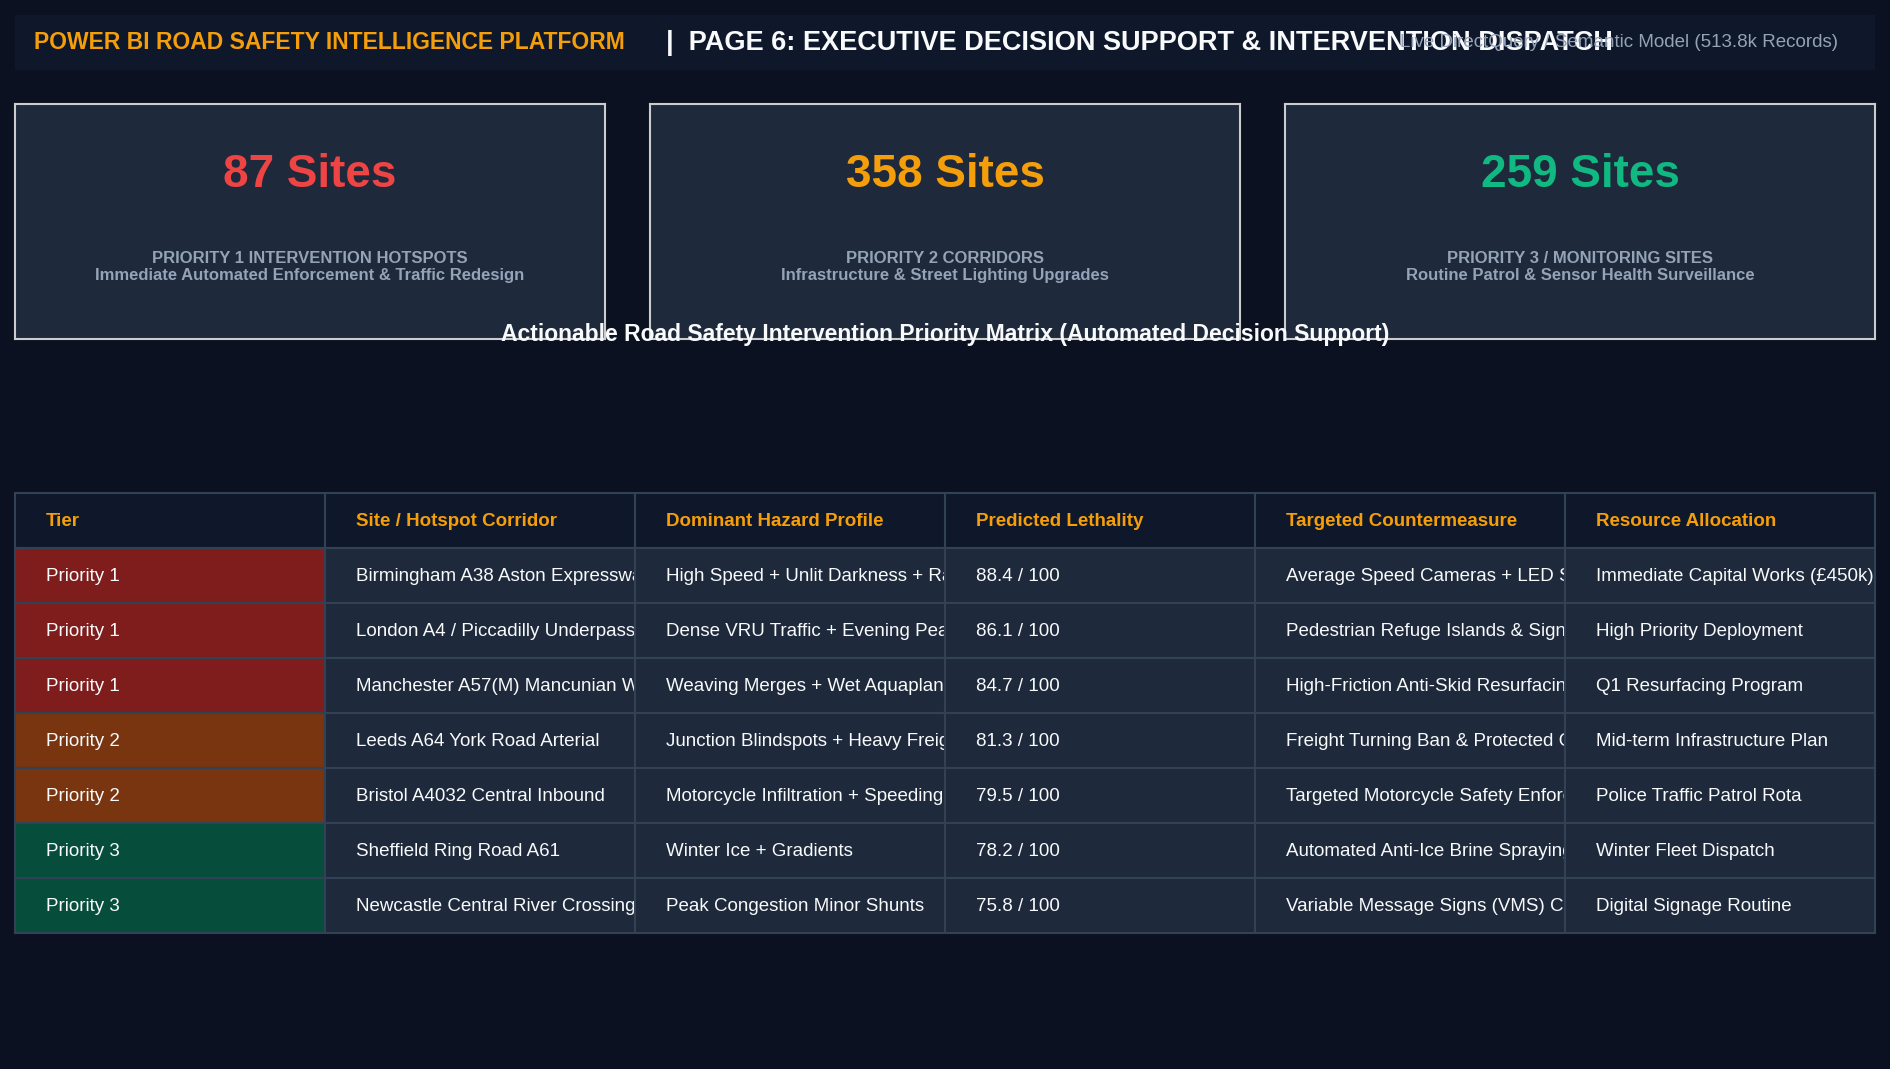

This screenshot's page, from the dashboard's own definition file:
{"tool":"powerbi","page":{"name":"6. Road Safety Decision Support","canvas":[1280,720],"ordinal":5},"visuals":[{"type":"card","title":"Priority 1 (Urgent Audit)","box":[20,20,290,100],"z":1000},{"type":"card","title":"Priority 2 (Structural Hazard)","box":[330,20,290,100],"z":1000},{"type":"card","title":"Priority 3 (Targeted Action)","box":[640,20,290,100],"z":1000},{"type":"card","title":"Total Actionable Hotspots","box":[950,20,310,100],"z":1000},{"type":"tableEx","title":"Ranked Hotspot Investigation List & Recommended Interventions","box":[20,140,780,560],"z":1000},{"type":"scatterChart","title":"Risk Score vs Collision Acceleration Trend","box":[820,140,440,270],"z":1000},{"type":"card","title":"Prescriptive Engineering Framework","box":[820,430,440,270],"z":1000}]}

Visuals, with their boxes in screenshot pixels (x1, y1, x2, y2), scaled from the page's 1280x720 canvas onto the 1890x1069 screenshot:
"Priority 1 (Urgent Audit)" card: {"left": 30, "top": 30, "right": 458, "bottom": 178}
"Priority 2 (Structural Hazard)" card: {"left": 487, "top": 30, "right": 915, "bottom": 178}
"Priority 3 (Targeted Action)" card: {"left": 945, "top": 30, "right": 1373, "bottom": 178}
"Total Actionable Hotspots" card: {"left": 1403, "top": 30, "right": 1860, "bottom": 178}
"Ranked Hotspot Investigation List & Recommended Interventions" tableEx: {"left": 30, "top": 208, "right": 1181, "bottom": 1039}
"Risk Score vs Collision Acceleration Trend" scatterChart: {"left": 1211, "top": 208, "right": 1860, "bottom": 609}
"Prescriptive Engineering Framework" card: {"left": 1211, "top": 638, "right": 1860, "bottom": 1039}
